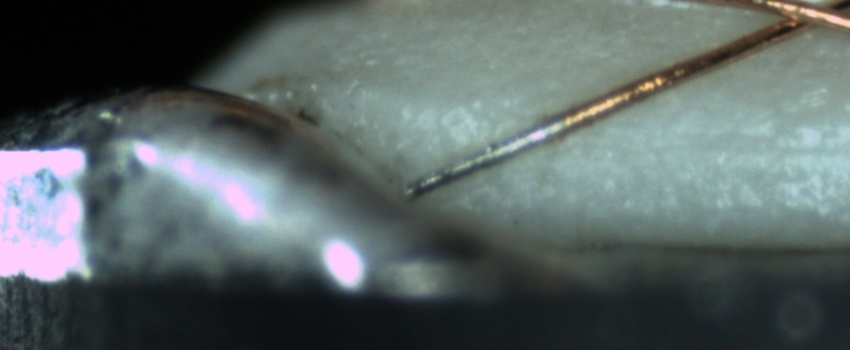CL: (757, 0, 844, 40)
DL: (664, 110, 850, 187)
TS: (405, 116, 564, 198)
